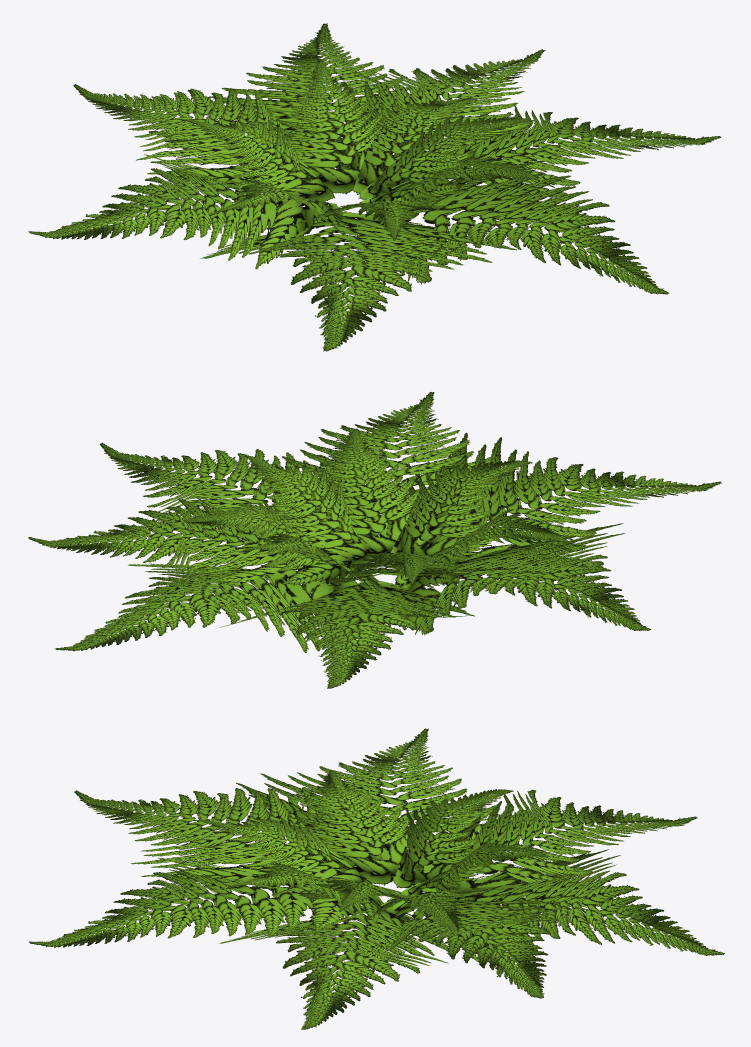
File: LowestBush9Shape.dae
The picture shows the model from 3 angles, top to bottom: view 1: azimuth 30°, elevation 25°; view 2: azimuth 150°, elevation 25°; view 3: azimuth 270°, elevation 25°; orthographic projection. The views are drawn at different scales.
Visible parts, largest first — view 1: LowestBush9; view 2: LowestBush9; view 3: LowestBush9.
Part boxes in pixels (left/top/right/bottom): LowestBush9: left=28, top=23, right=721, bottom=351; LowestBush9: left=28, top=392, right=722, bottom=688; LowestBush9: left=28, top=728, right=724, bottom=1029.
Size of the model in its own units: 46.59 by 4.98 by 46.97.
